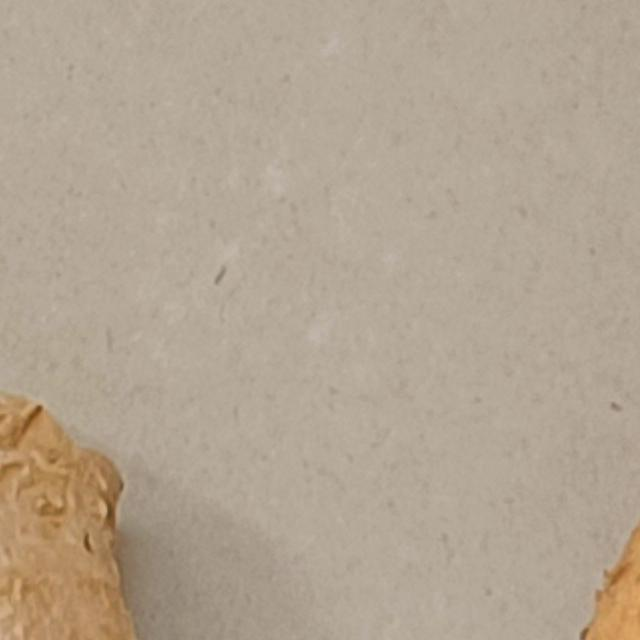ginger: (0, 146, 332, 640)
